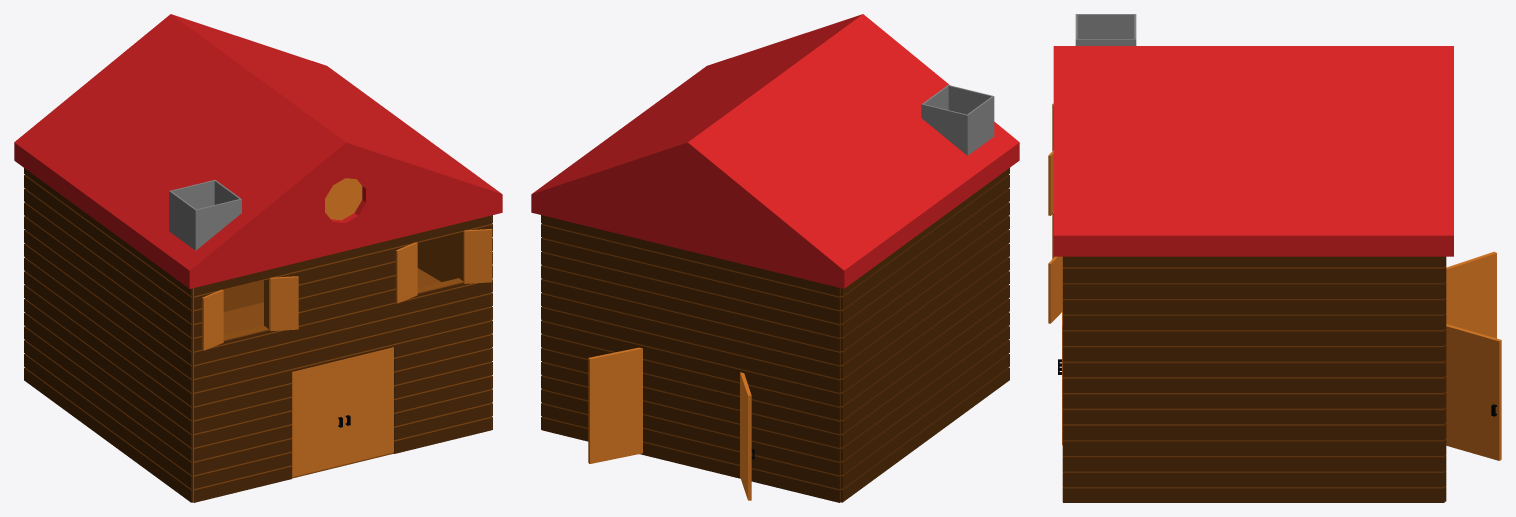
Rendered from GranjaOveja.fbx.
3 views of the same model, side by side, from view 1: azimuth 30°, elevation 25°; view 2: azimuth 150°, elevation 25°; view 3: azimuth 270°, elevation 25° (orthographic). The views are drawn at different scales.
Parts seen in each view (by area): view 1: Cube.019, Techo, PuertaIzquierda, PuertaDerecha; view 2: Cube.019, Techo; view 3: Cube.019, Techo.
Boxes of the visible parts, x1,y1,x2,y2 form: Cube.019: [24, 168, 492, 502]; Techo: [14, 14, 502, 288]; PuertaIzquierda: [292, 359, 343, 476]; PuertaDerecha: [343, 347, 393, 464]; Cube.019: [541, 85, 1009, 502]; Techo: [531, 14, 1019, 288]; Cube.019: [1048, 14, 1501, 502]; Techo: [1053, 46, 1453, 256].
Size of the model in its own units: 642 by 642 by 707.
